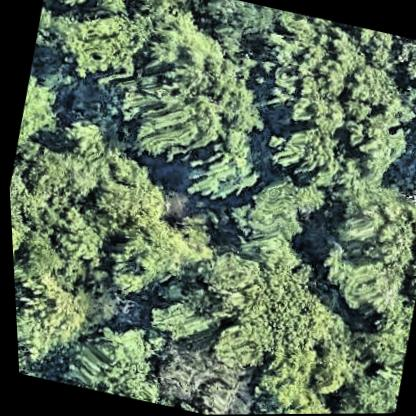tree-top: (113, 22, 275, 180), (193, 233, 336, 383), (303, 179, 416, 321), (250, 9, 370, 134), (105, 204, 221, 311), (58, 315, 168, 405), (43, 0, 149, 90), (11, 267, 99, 373), (227, 175, 328, 258), (140, 346, 261, 415), (86, 151, 173, 244), (337, 100, 410, 190), (256, 347, 347, 415), (261, 122, 350, 188), (11, 75, 77, 161), (340, 305, 411, 378), (182, 0, 276, 47), (41, 204, 104, 270), (318, 366, 397, 414), (382, 35, 416, 112), (41, 0, 135, 23), (9, 214, 29, 285)
